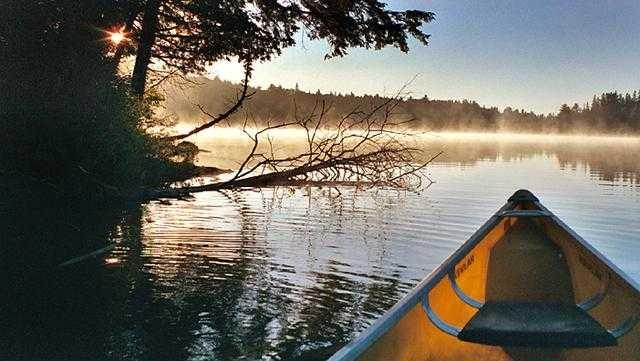kayak: (329, 188, 639, 357)
